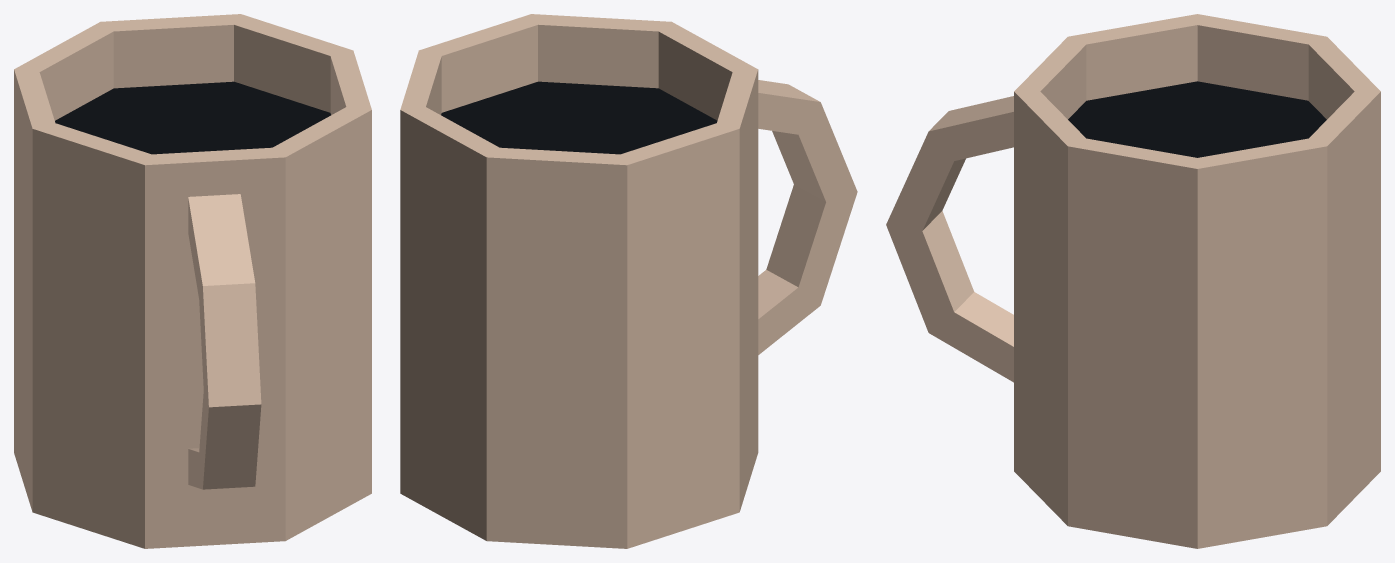
Rendered from mug.fbx.
3 renders of one model, left to right at view 1: azimuth 30°, elevation 25°; view 2: azimuth 150°, elevation 25°; view 3: azimuth 270°, elevation 25°, orthographic.
Visible parts, largest first — view 1: mug, mug_liquid; view 2: mug, mug_liquid; view 3: mug, mug_liquid.
Part boxes in pixels (x1,y1,x2,y2): mug: [14, 14, 371, 548]; mug_liquid: [55, 81, 330, 154]; mug: [400, 14, 857, 548]; mug_liquid: [441, 81, 717, 154]; mug: [886, 14, 1380, 548]; mug_liquid: [1068, 81, 1326, 157].
Bounding box in the file's own units: 15.63 × 17.86 × 21.08.
1 material, 1 textured.
